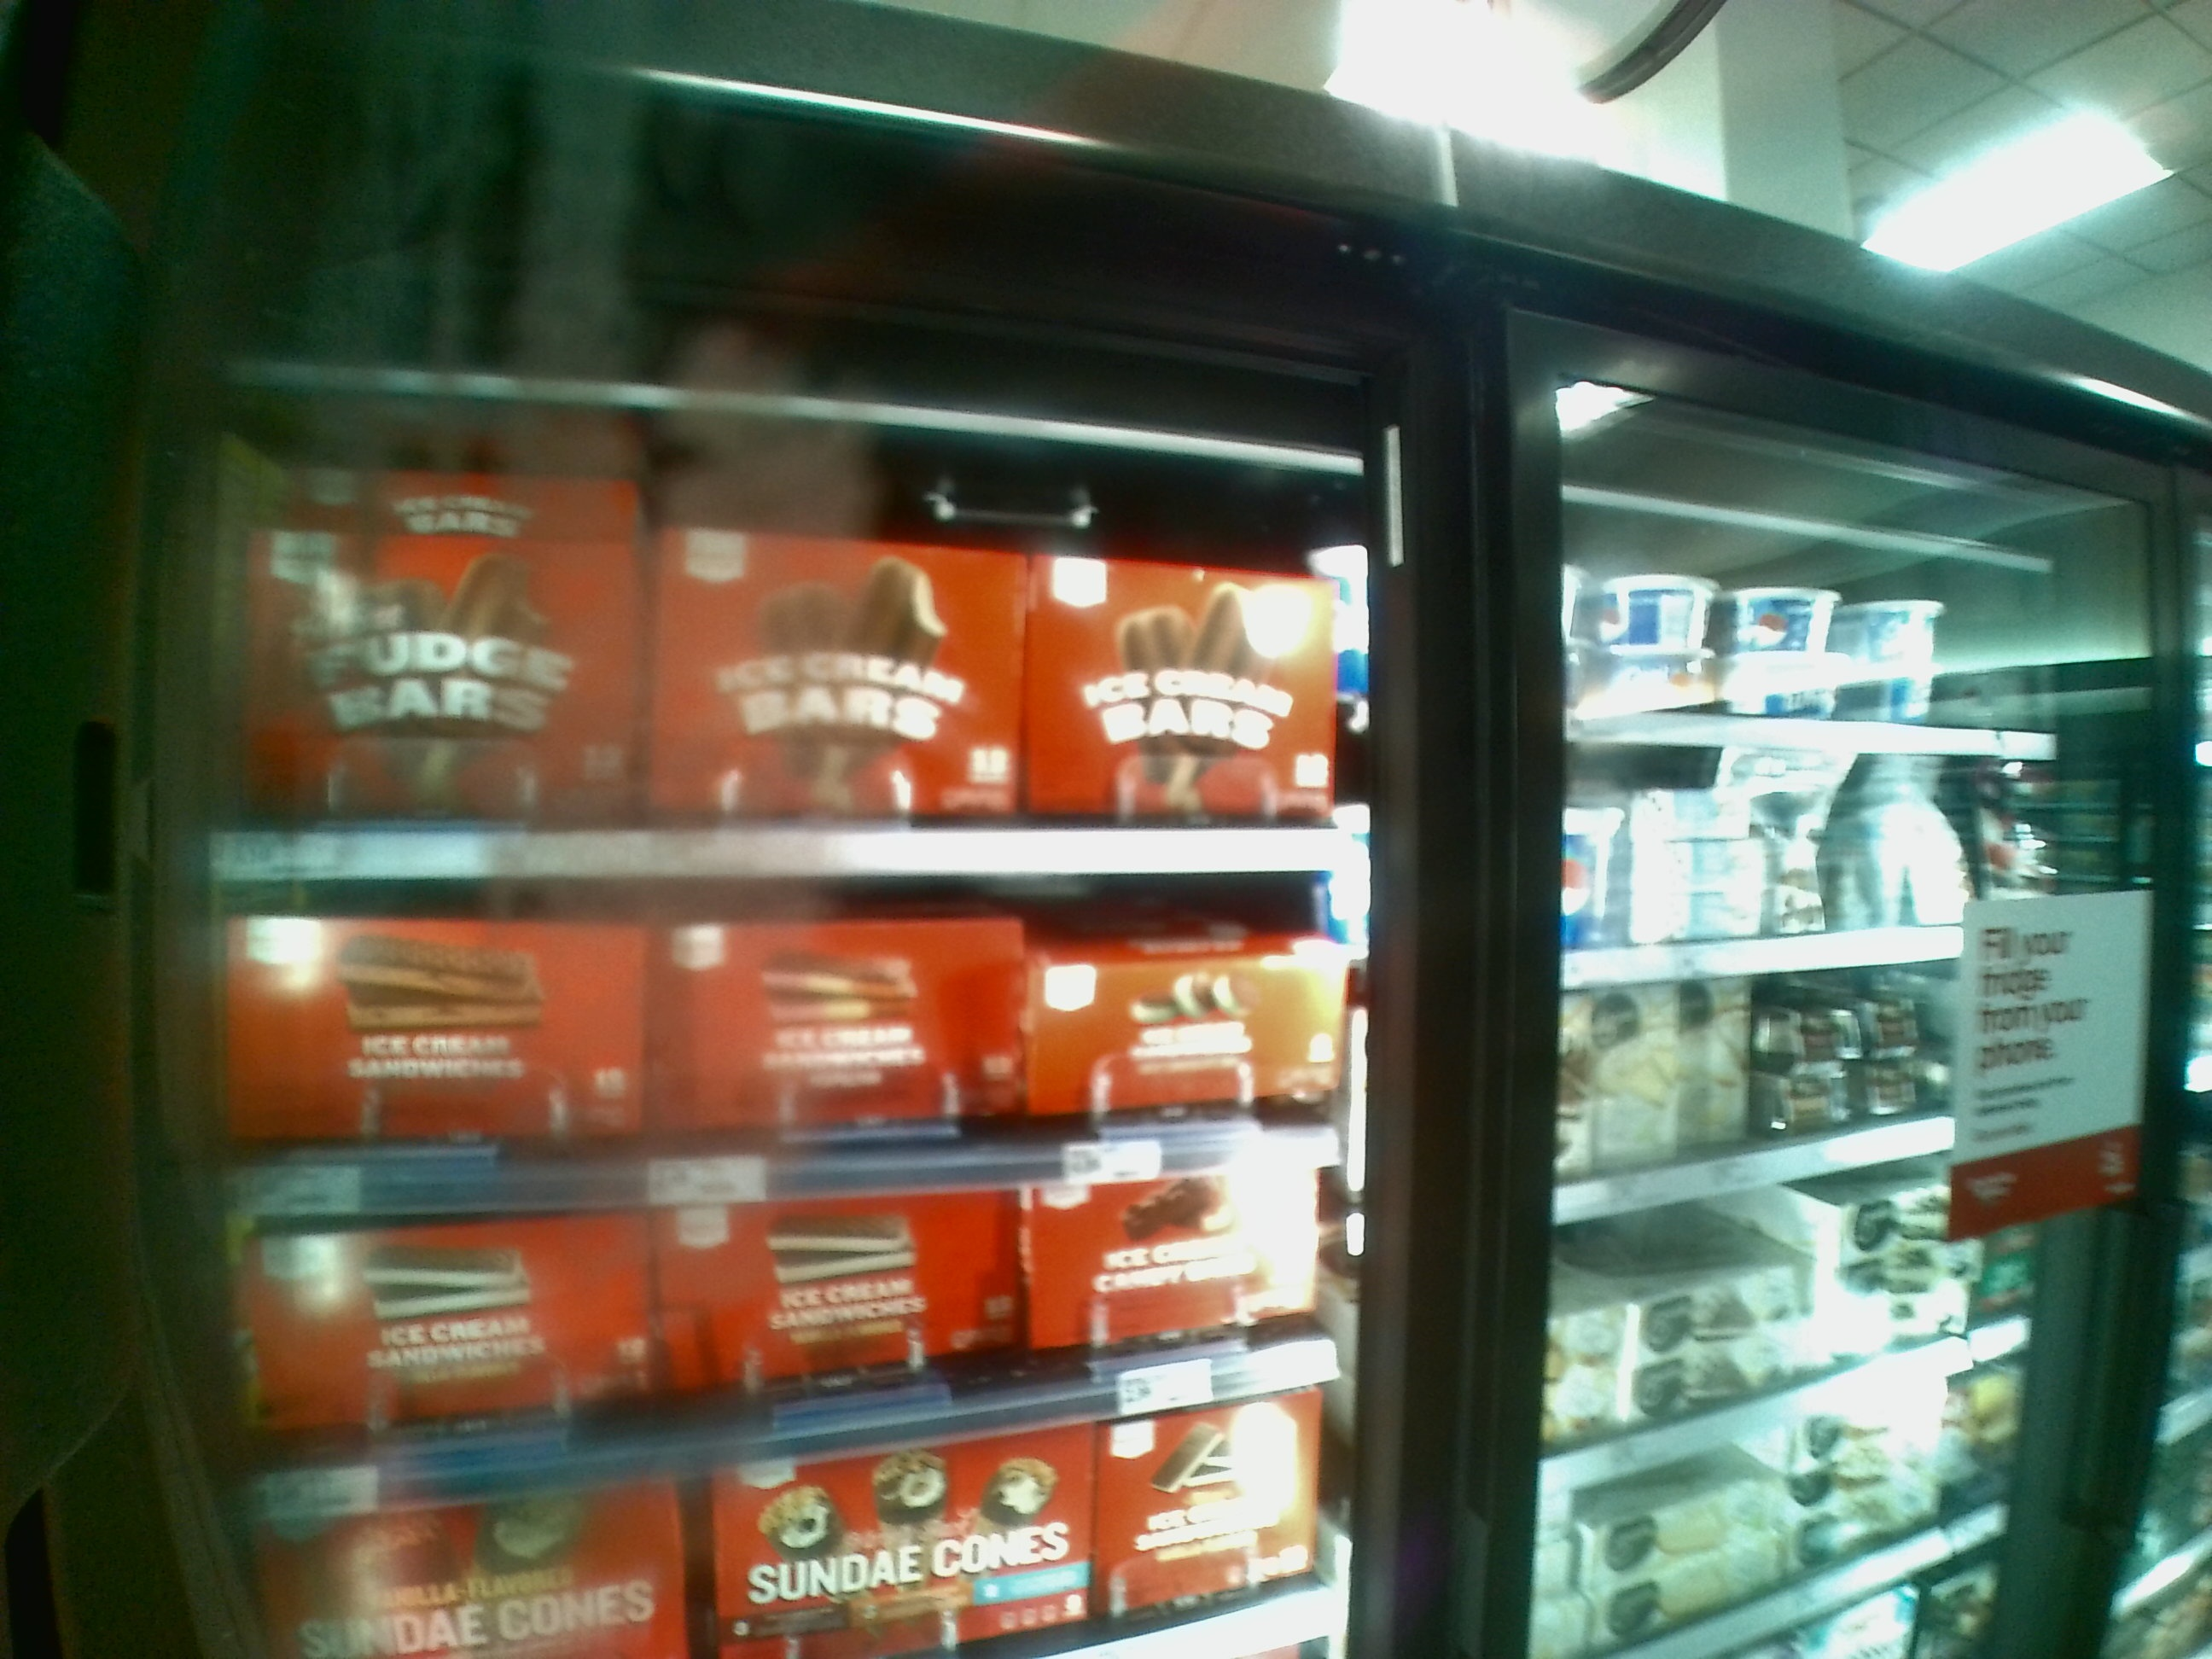shelf: (204, 396, 1372, 878), (232, 864, 1346, 1173), (232, 1171, 1350, 1445)
